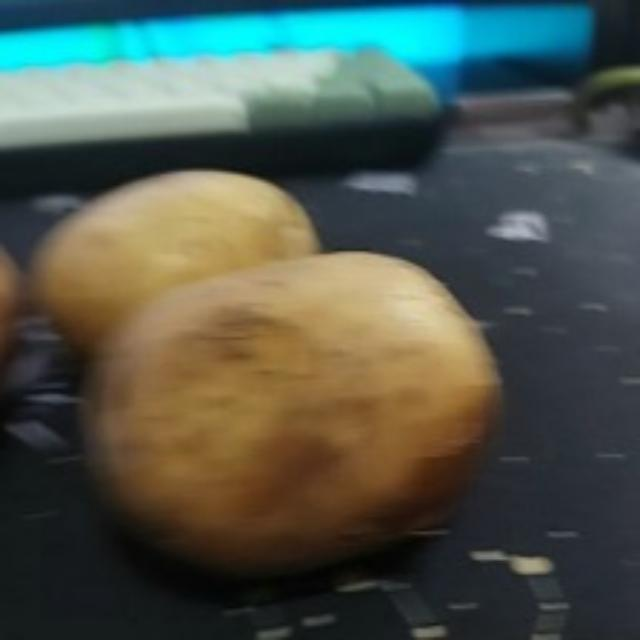Damaged potato: (72, 250, 510, 602)
Potato: (19, 172, 324, 360)
